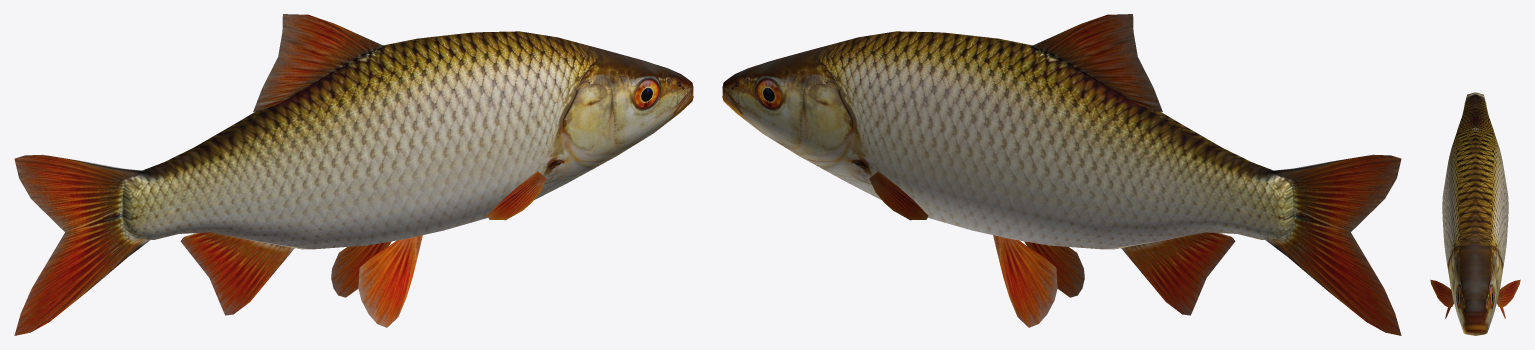
The model's file is Rudd.glb.
3 renders of one model, left to right at view 1: azimuth 30°, elevation 25°; view 2: azimuth 150°, elevation 25°; view 3: azimuth 270°, elevation 25°, orthographic. The views are drawn at different scales.
Visible parts, largest first — view 1: Rudd; view 2: Rudd; view 3: Rudd.
Boxes of the visible parts, x1,y1,x2,y2 form: Rudd: (14,14,693,335); Rudd: (722,14,1401,335); Rudd: (1430,92,1520,335).
Size of the model in its own units: 2 by 0.9035 by 0.3124.
1 material, 1 textured.
